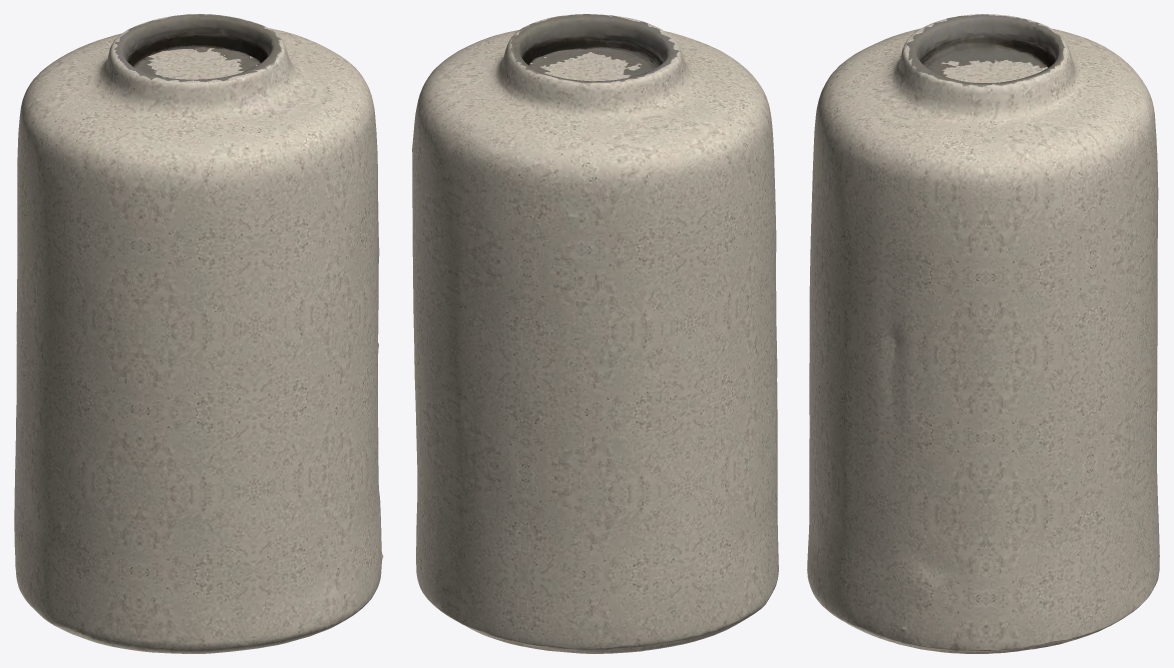
The model's file is vase.glb.
3 renders of one model, left to right at view 1: azimuth 30°, elevation 25°; view 2: azimuth 150°, elevation 25°; view 3: azimuth 270°, elevation 25°, orthographic.
Parts seen in each view (by area): view 1: geometry_0; view 2: geometry_0; view 3: geometry_0.
Boxes of the visible parts, x1=… form: geometry_0: x1=14, y1=14, x2=383, y2=653; geometry_0: x1=412, y1=14, x2=778, y2=653; geometry_0: x1=807, y1=14, x2=1159, y2=653.
Bounding box in the file's own units: 0.125 × 0.2 × 0.12.
1 material, 1 textured.
